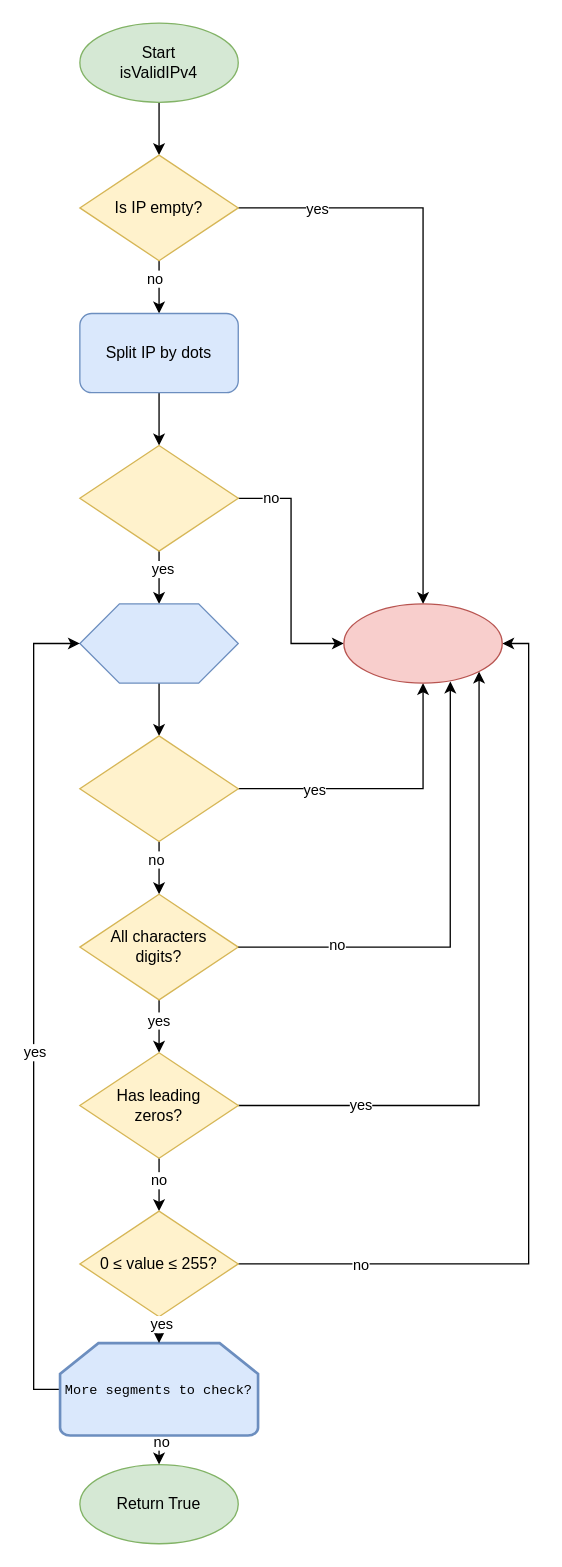
This 562x1567 diagram has some shape labels left out. The shapes that lost their labels are listed below. From the top down, each one's centre as x and y in pixels, then its label:
At pixel 158 497: "Has 4 segments?".
At pixel 158 643: "For each segment".
At pixel 422 643: "Return False".
At pixel 158 788: "Is segment empty?".
